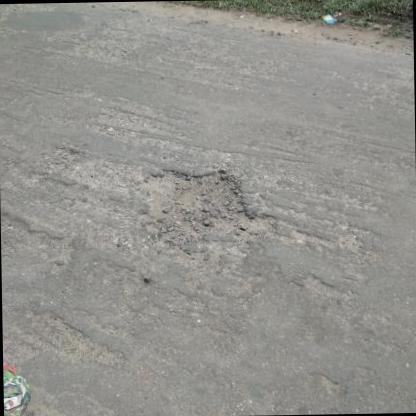pothole: (134, 161, 272, 243)
